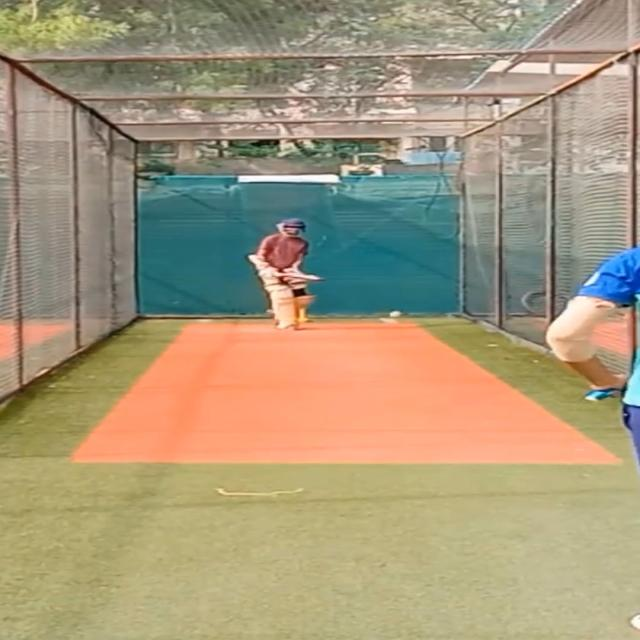ball: (386, 309, 404, 320)
